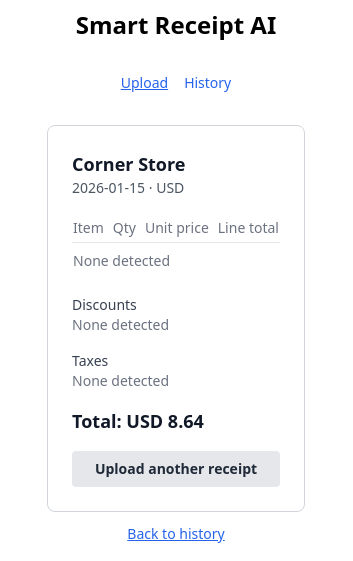
navigation between upload, history and a saved receipt › "Back to history" returns to the list
Expected: the heading "Corner Store" is shown, [72,152,185,176]
// When the user clicks "Back to history"
Click the link "Back to history". click: x=176, y=534
box: [127,524,225,544]
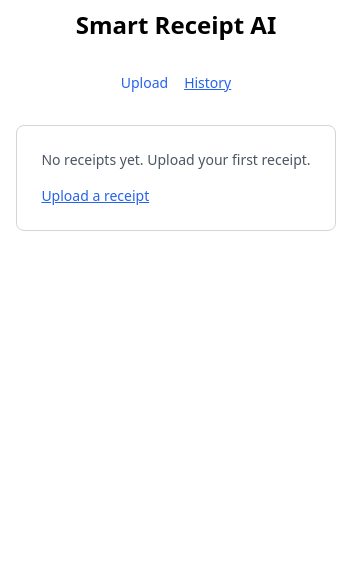
Result: the text "No receipts yet. Upload your first receipt." is shown at [41,150,311,170]
